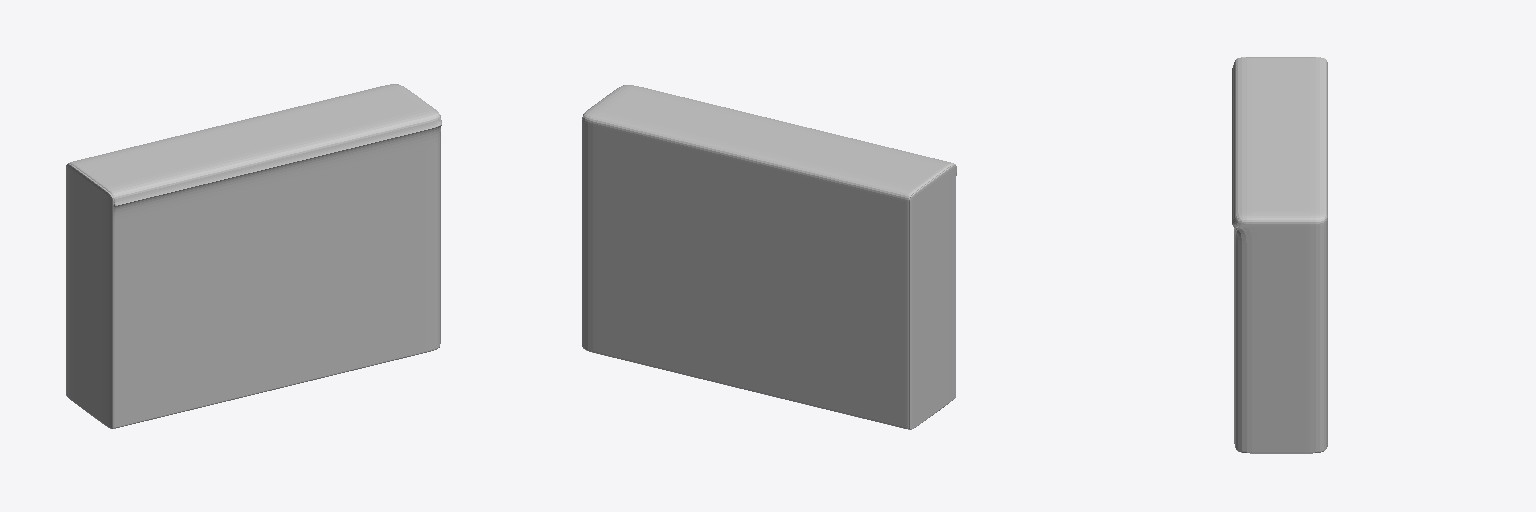
Rendered from sofaleftarm.obj.
3 views of the same model, side by side, from view 1: azimuth 30°, elevation 25°; view 2: azimuth 150°, elevation 25°; view 3: azimuth 270°, elevation 25° (orthographic).
Visible parts, largest first — view 1: 立方体; view 2: 立方体; view 3: 立方体.
Part boxes in pixels (x1,y1,x2,y2): 立方体: (66,84,441,428); 立方体: (582,85,956,429); 立方体: (1232,57,1327,453).
Size of the model in its own units: 1.1 by 0.7498 by 0.2742.